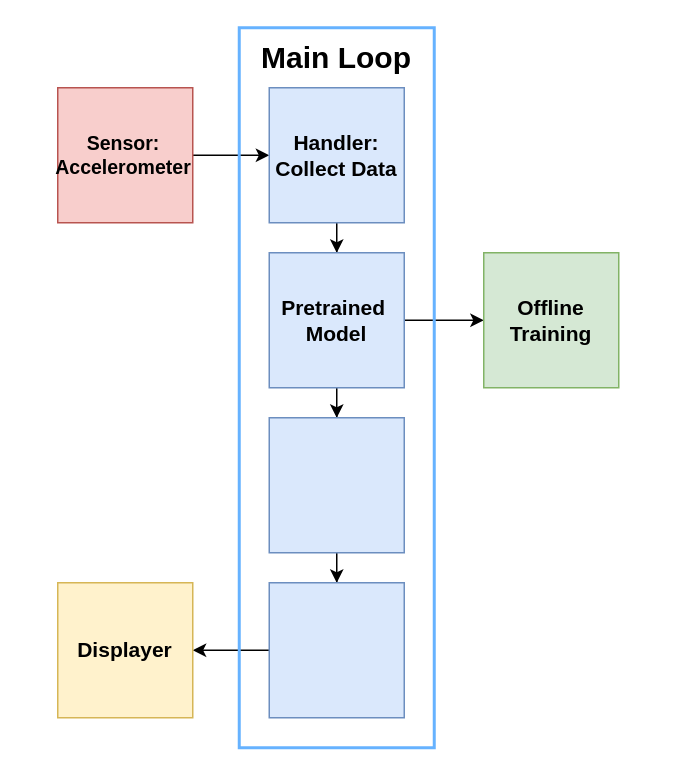
Image size: 674x774. Some labels were removed from this diagram. Each missing label, with the box of its shape:
Gesture Predictor: (268, 416, 404, 553)
Handler: Visualize: (268, 581, 404, 718)
